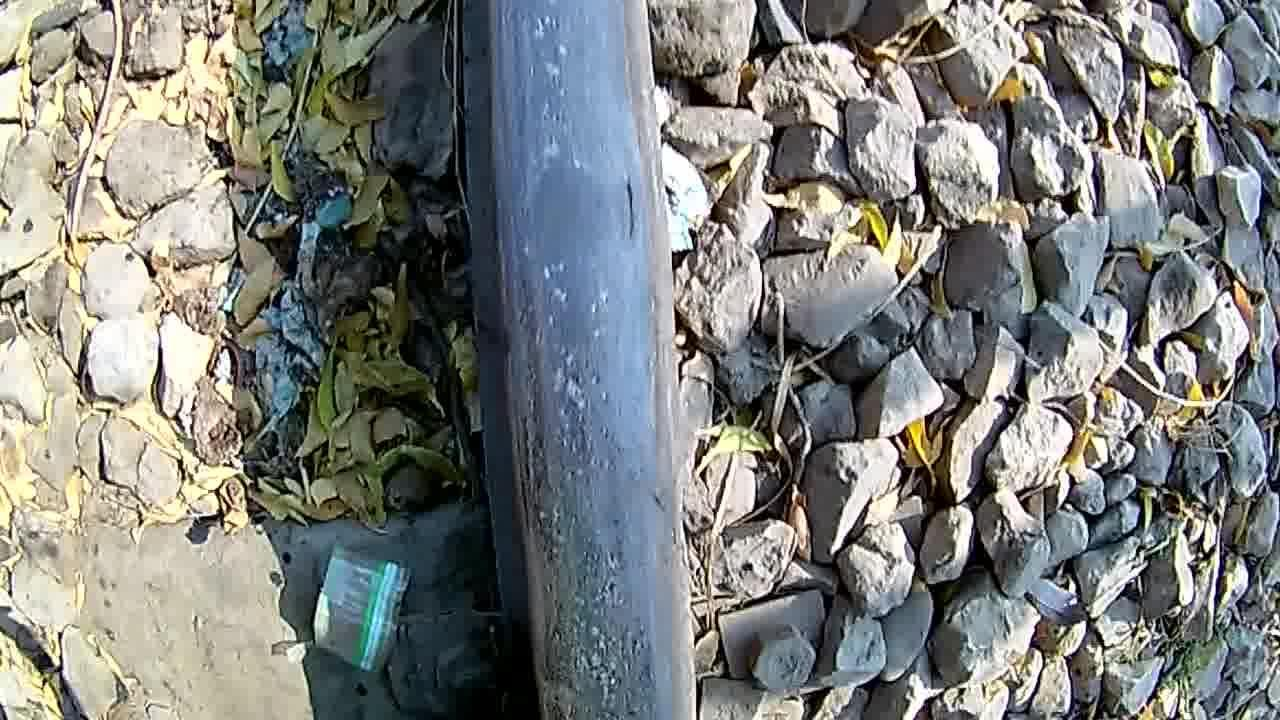crack: (483, 121, 648, 340)
